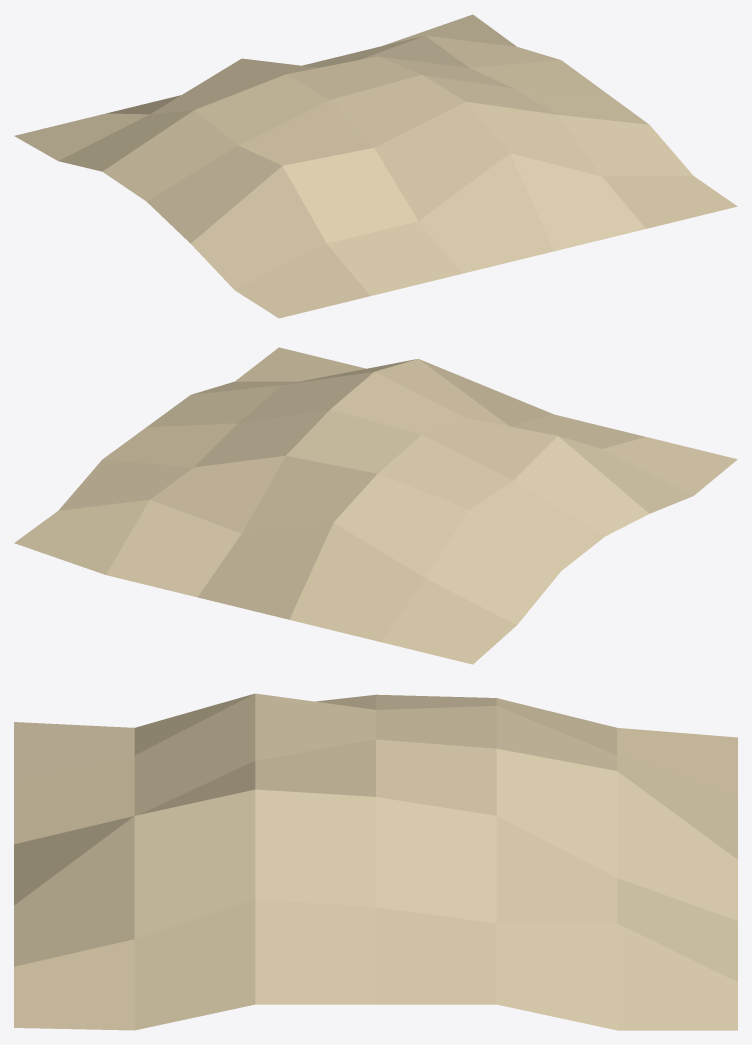
Rendered from dirt.fbx.
3 views of the same model, one above another, from view 1: azimuth 30°, elevation 25°; view 2: azimuth 150°, elevation 25°; view 3: azimuth 270°, elevation 25° (orthographic). The views are drawn at different scales.
Parts seen in each view (by area): view 1: Plane; view 2: Plane; view 3: Plane.
Part boxes in pixels (bbox=[...]): Plane: bbox=[14, 14, 737, 318]; Plane: bbox=[14, 347, 737, 664]; Plane: bbox=[14, 693, 737, 1030].
Size of the model in its own units: 2 by 0.401 by 2.
